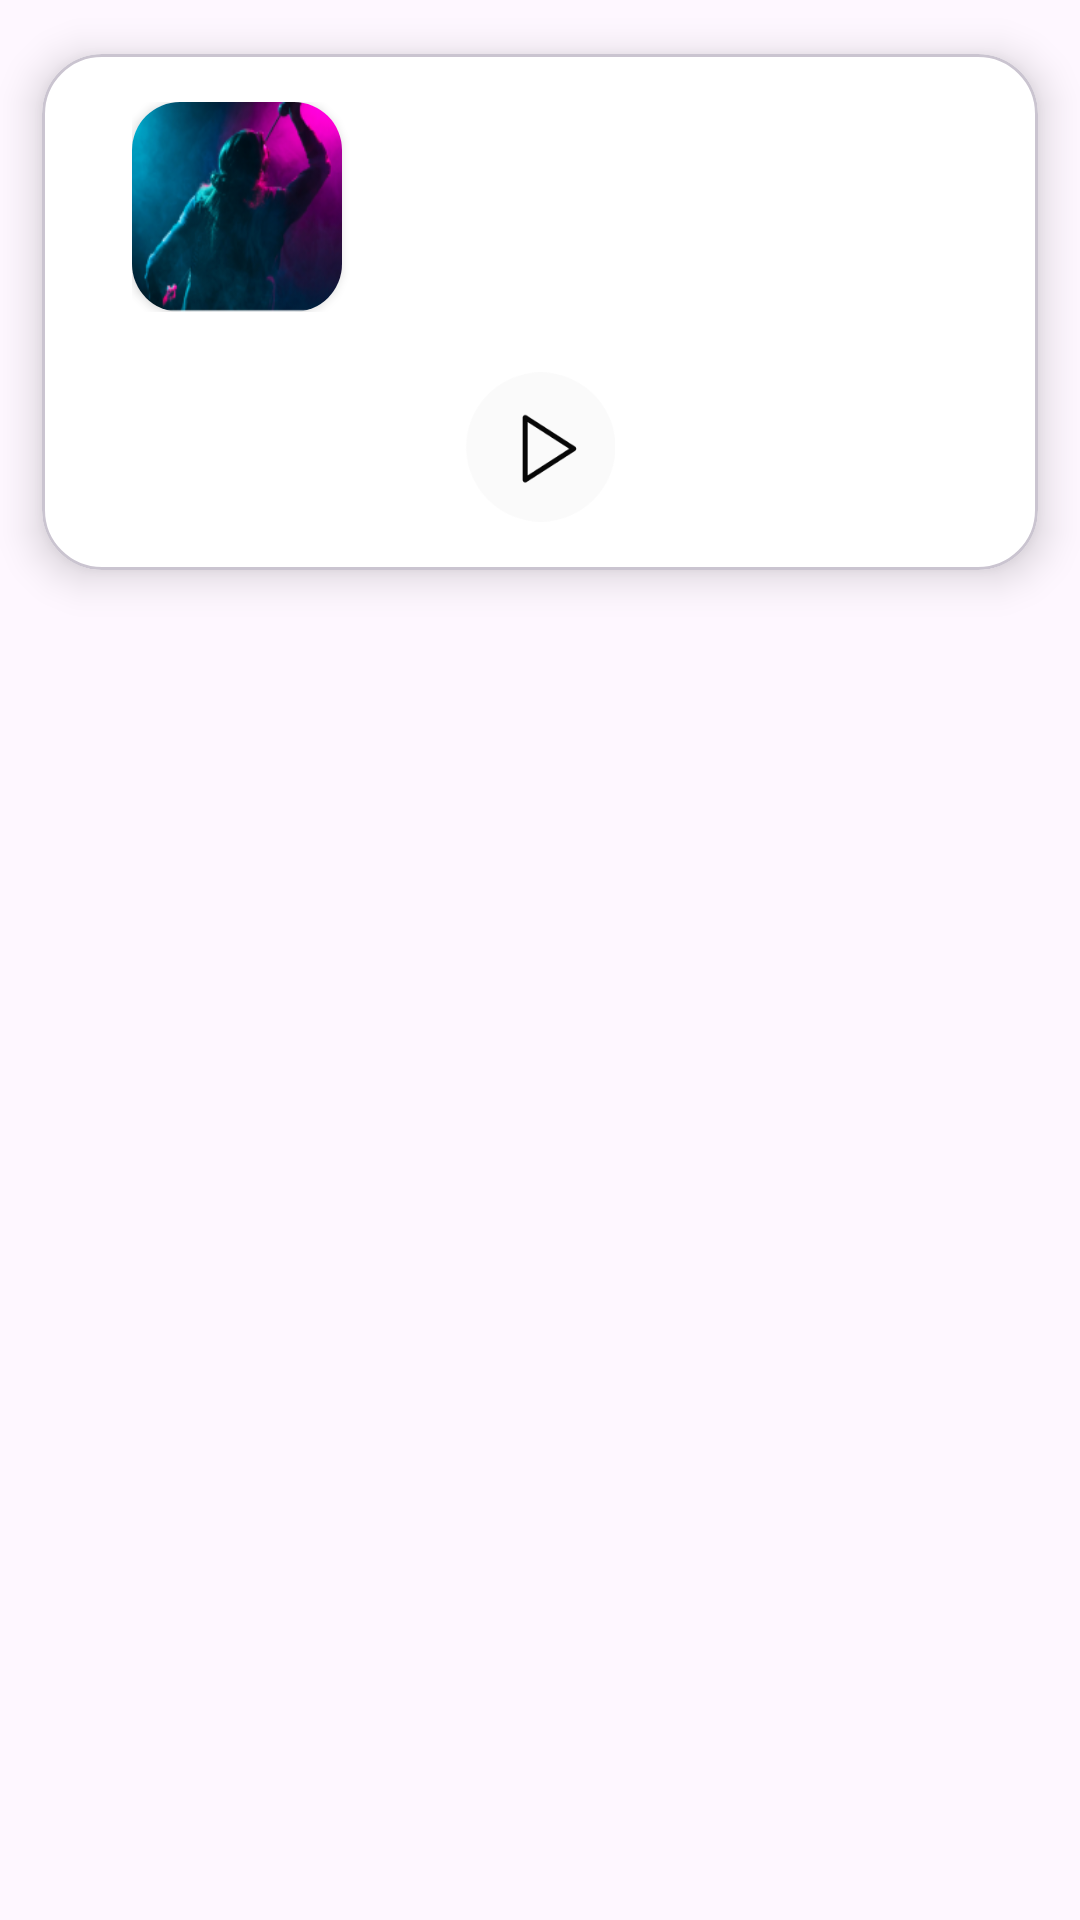

Named icons in this screenshot (1080 × 1920) and their bounding boxes, region(x1, y1, x2, y2):
Play pause button: region(522, 414, 577, 483)
